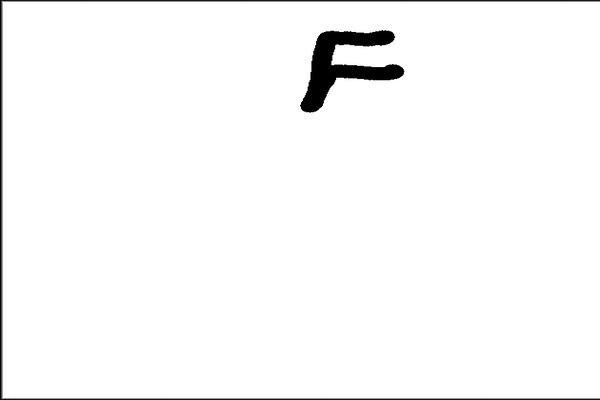F: (292, 24, 407, 116)
